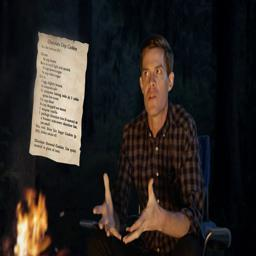fire: (13, 189, 51, 256)
